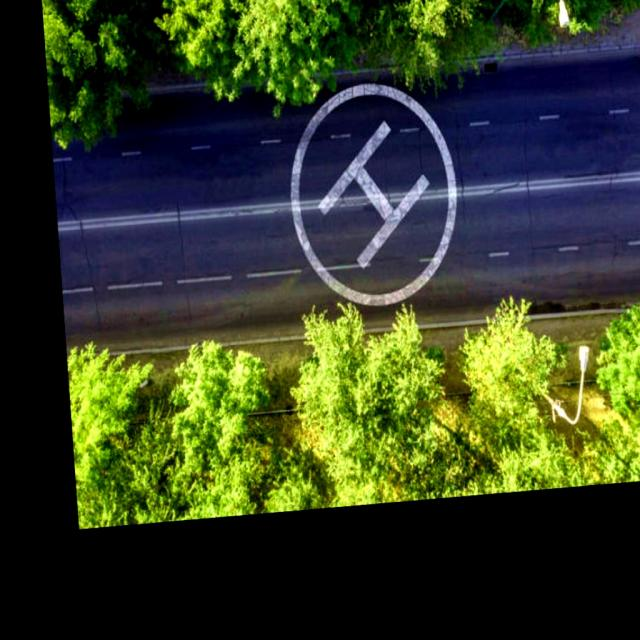helipad: (283, 75, 463, 312)
